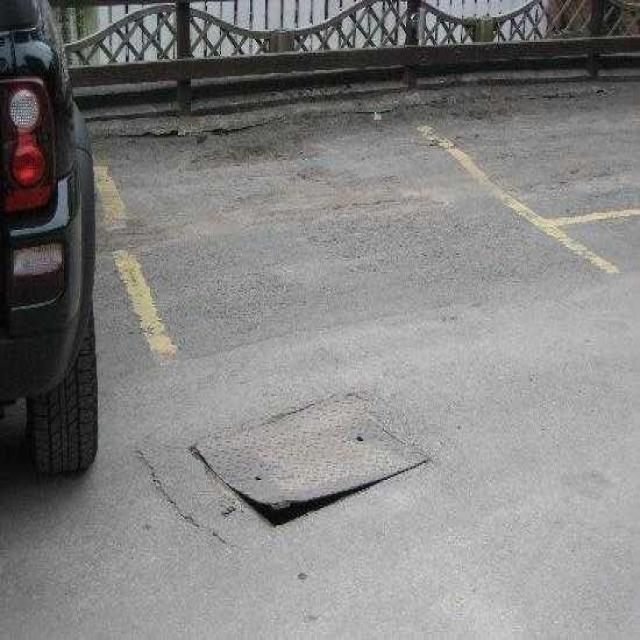manhole: (194, 395, 428, 522)
